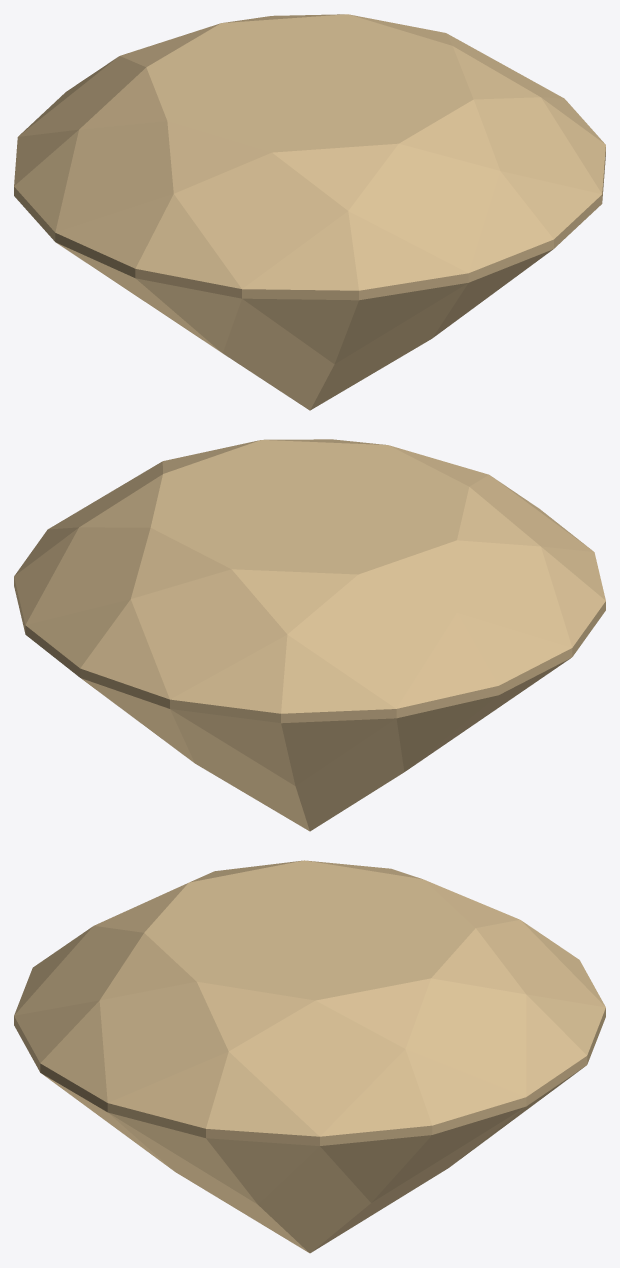
Rendered from stone-zircon.glb.
3 views of the same model, one above another, from view 1: azimuth 30°, elevation 25°; view 2: azimuth 150°, elevation 25°; view 3: azimuth 270°, elevation 25° (orthographic).
Parts seen in each view (by area): view 1: Gemstone Zircon; view 2: Gemstone Zircon; view 3: Gemstone Zircon.
Part boxes in pixels (x1,y1,x2,y2): Gemstone Zircon: (14, 14, 605, 410); Gemstone Zircon: (14, 439, 605, 831); Gemstone Zircon: (14, 860, 605, 1253).
Bounding box in the file's own units: 2 × 1.2 × 2.
